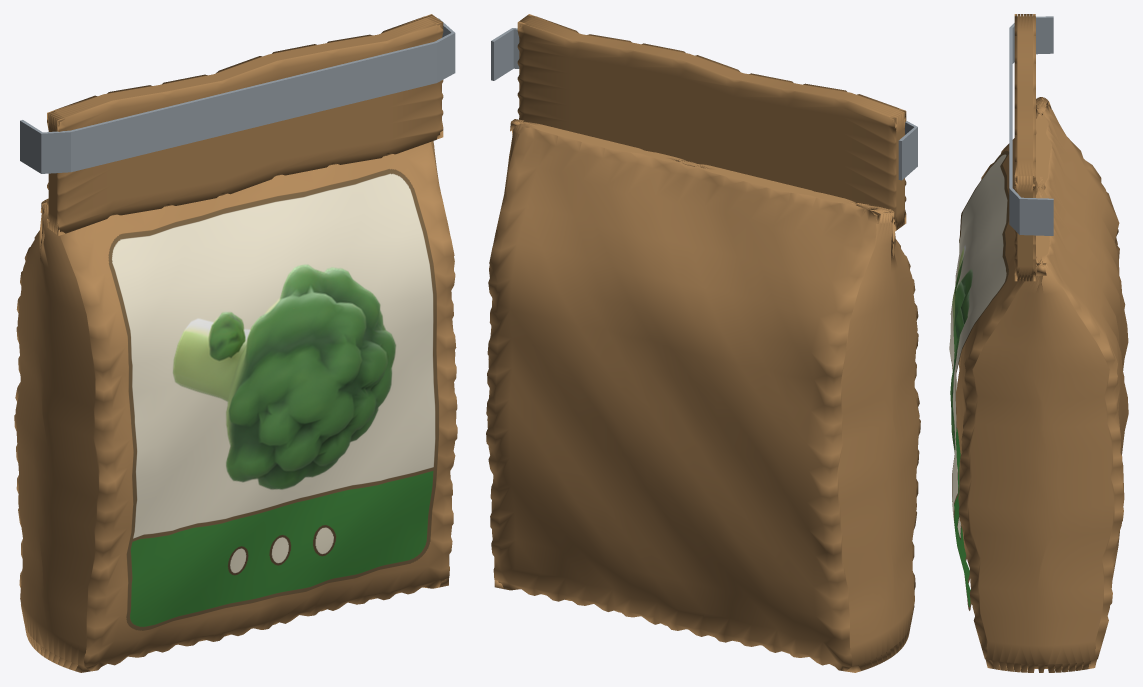
Rendered from broccoli_seed.glb.
3 renders of one model, left to right at view 1: azimuth 30°, elevation 25°; view 2: azimuth 150°, elevation 25°; view 3: azimuth 270°, elevation 25°, orthographic. The views are drawn at different scales.
Visible parts, largest first — view 1: BroccoliSeed_Label, BroccoliSeed_Body, BroccoliSeed_Fold, BroccoliSeed_Tie; view 2: BroccoliSeed_Body, BroccoliSeed_Fold, BroccoliSeed_Tie; view 3: BroccoliSeed_Body, BroccoliSeed_Label, BroccoliSeed_Fold, BroccoliSeed_Tie.
Boxes of the visible parts, <box> form: BroccoliSeed_Label: <box>108,169,438,630</box>; BroccoliSeed_Body: <box>14,141,457,672</box>; BroccoliSeed_Fold: <box>47,14,443,235</box>; BroccoliSeed_Tie: <box>20,18,455,173</box>; BroccoliSeed_Body: <box>486,119,920,672</box>; BroccoliSeed_Fold: <box>517,14,906,231</box>; BroccoliSeed_Tie: <box>491,28,917,180</box>; BroccoliSeed_Body: <box>956,97,1128,672</box>; BroccoliSeed_Label: <box>949,150,1009,610</box>; BroccoliSeed_Fold: <box>1014,14,1035,281</box>; BroccoliSeed_Tie: <box>1009,16,1053,235</box>.
Size of the model in its own units: 0.0917 by 0.1152 by 0.0378.
Materials: 4 (1 with a texture image).
